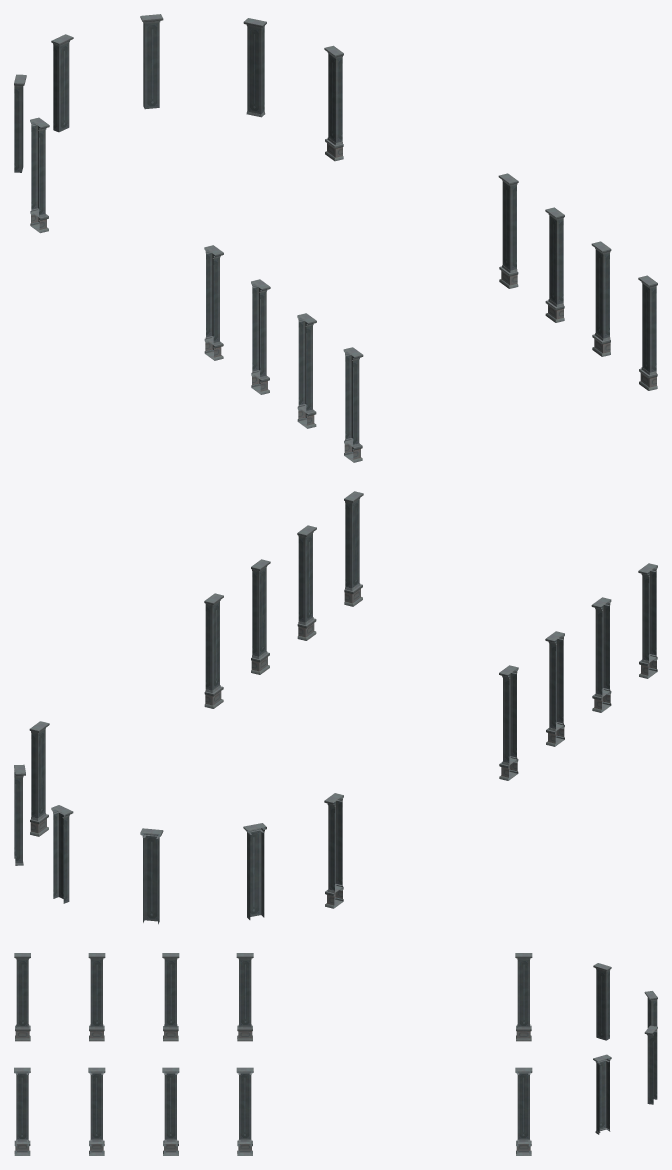
Rendered from Indoor_MdBuild_Church01_1309_0.fbx.
3 views of the same model, one above another, from view 1: azimuth 30°, elevation 25°; view 2: azimuth 150°, elevation 25°; view 3: azimuth 270°, elevation 25° (orthographic). The views are drawn at different scales.
Visible parts, largest first — view 1: Indoor_MdBuild_Church01_1309_0; view 2: Indoor_MdBuild_Church01_1309_0; view 3: Indoor_MdBuild_Church01_1309_0.
Boxes of the visible parts, <box> form: Indoor_MdBuild_Church01_1309_0: <box>14,14,657,462</box>; Indoor_MdBuild_Church01_1309_0: <box>14,491,657,924</box>; Indoor_MdBuild_Church01_1309_0: <box>14,953,657,1155</box>.
Bounding box in the file's own units: 30.16 × 10.07 × 69.39.
